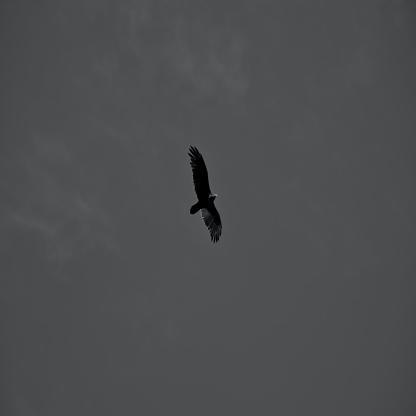bird: (189, 147, 222, 244)
